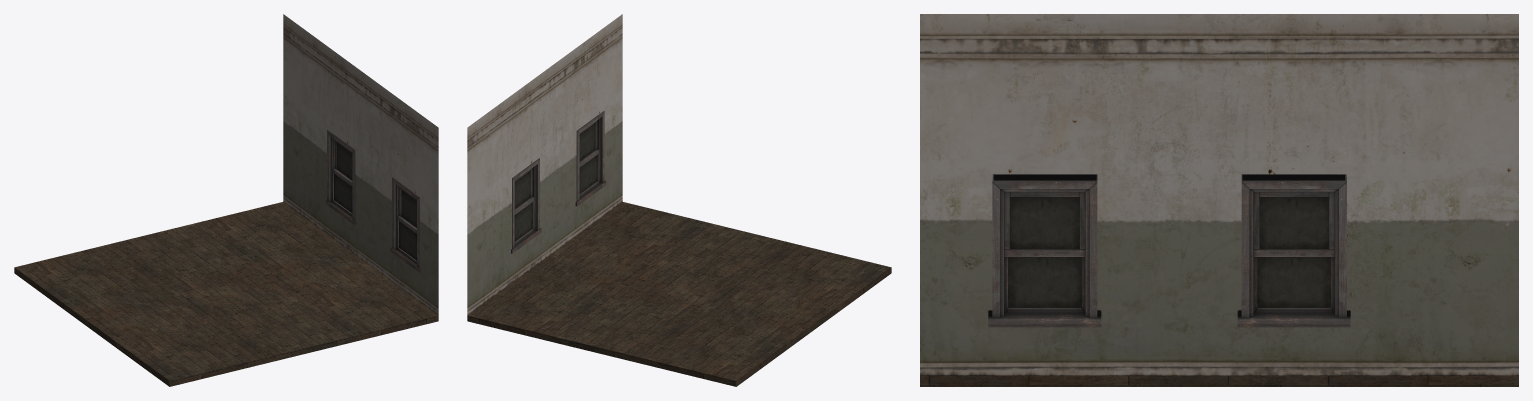
The model's file is hallway_oneside_windows_right_6m.fbx.
The picture shows the model from 3 angles, left to right: view 1: azimuth 30°, elevation 25°; view 2: azimuth 150°, elevation 25°; view 3: azimuth 270°, elevation 25°; orthographic projection. The views are drawn at different scales.
Visible parts, largest first — view 1: hallway_oneside_windows_right_6m; view 2: hallway_oneside_windows_right_6m; view 3: hallway_oneside_windows_right_6m.
Boxes of the visible parts, bbox=[...] form: hallway_oneside_windows_right_6m: bbox=[14, 14, 438, 386]; hallway_oneside_windows_right_6m: bbox=[467, 14, 891, 386]; hallway_oneside_windows_right_6m: bbox=[920, 14, 1518, 386].
Size of the model in its own units: 623 by 412 by 600.
